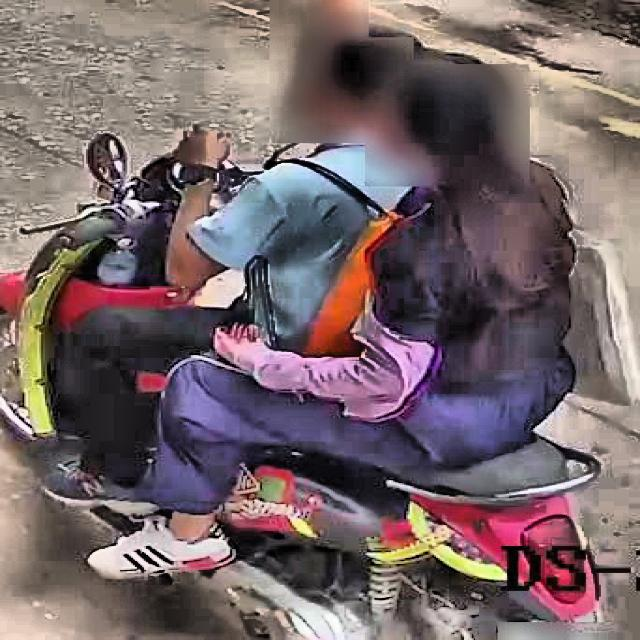motorcycle: (0, 145, 616, 637)
